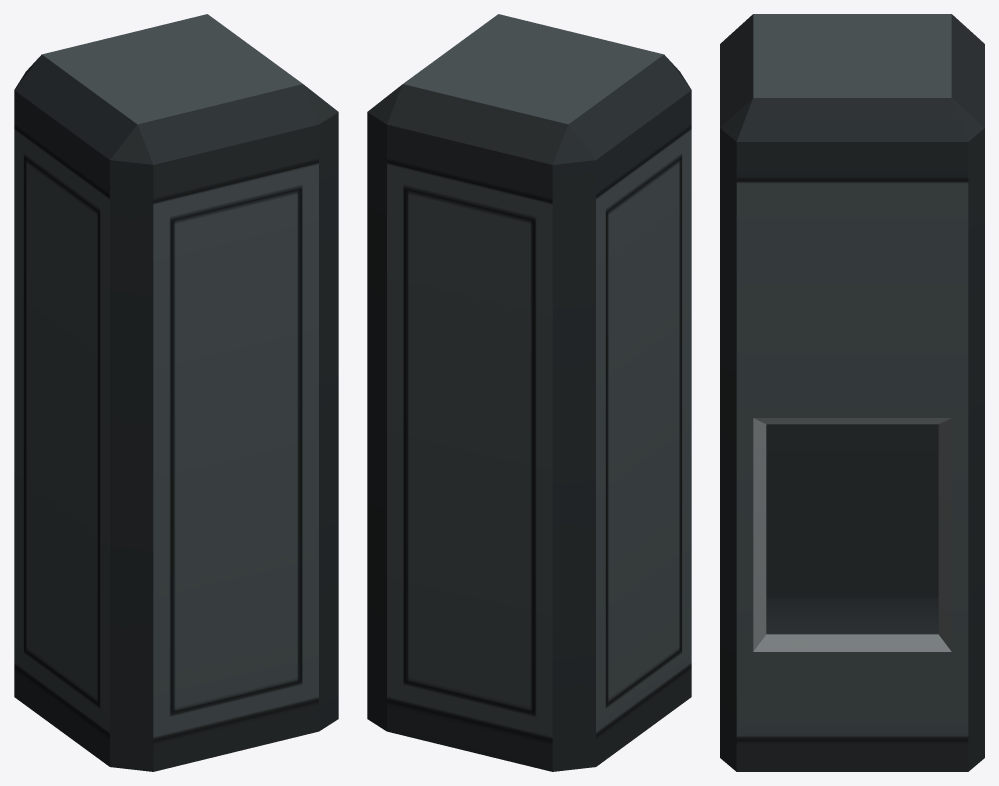
Rendered from station-coffee-machine-crafted-retail.glb.
3 views of the same model, side by side, from view 1: azimuth 30°, elevation 25°; view 2: azimuth 150°, elevation 25°; view 3: azimuth 270°, elevation 25° (orthographic). The views are drawn at different scales.
Parts seen in each view (by area): view 1: Authored_surface_008; view 2: Authored_surface_008; view 3: Authored_surface_008.
Part boxes in pixels (x1=…): Authored_surface_008: x1=14, y1=14, x2=338, y2=771; Authored_surface_008: x1=367, y1=14, x2=691, y2=771; Authored_surface_008: x1=720, y1=14, x2=984, y2=771.
Bounding box in the file's own units: 0.8 × 2.2 × 0.8.
Materials: 1 (1 with a texture image).
